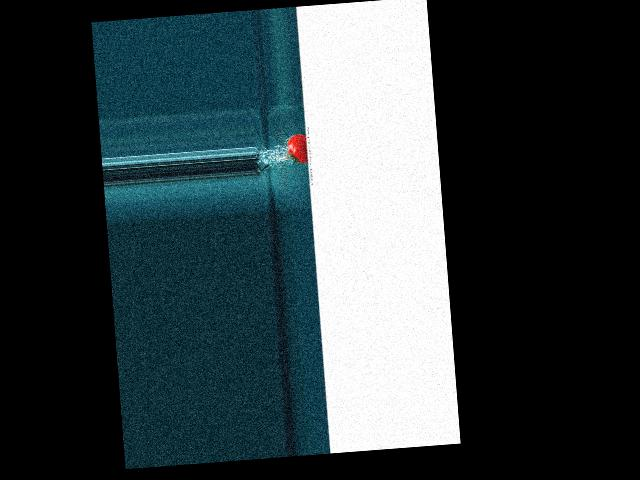tomato: (286, 134, 308, 165)
